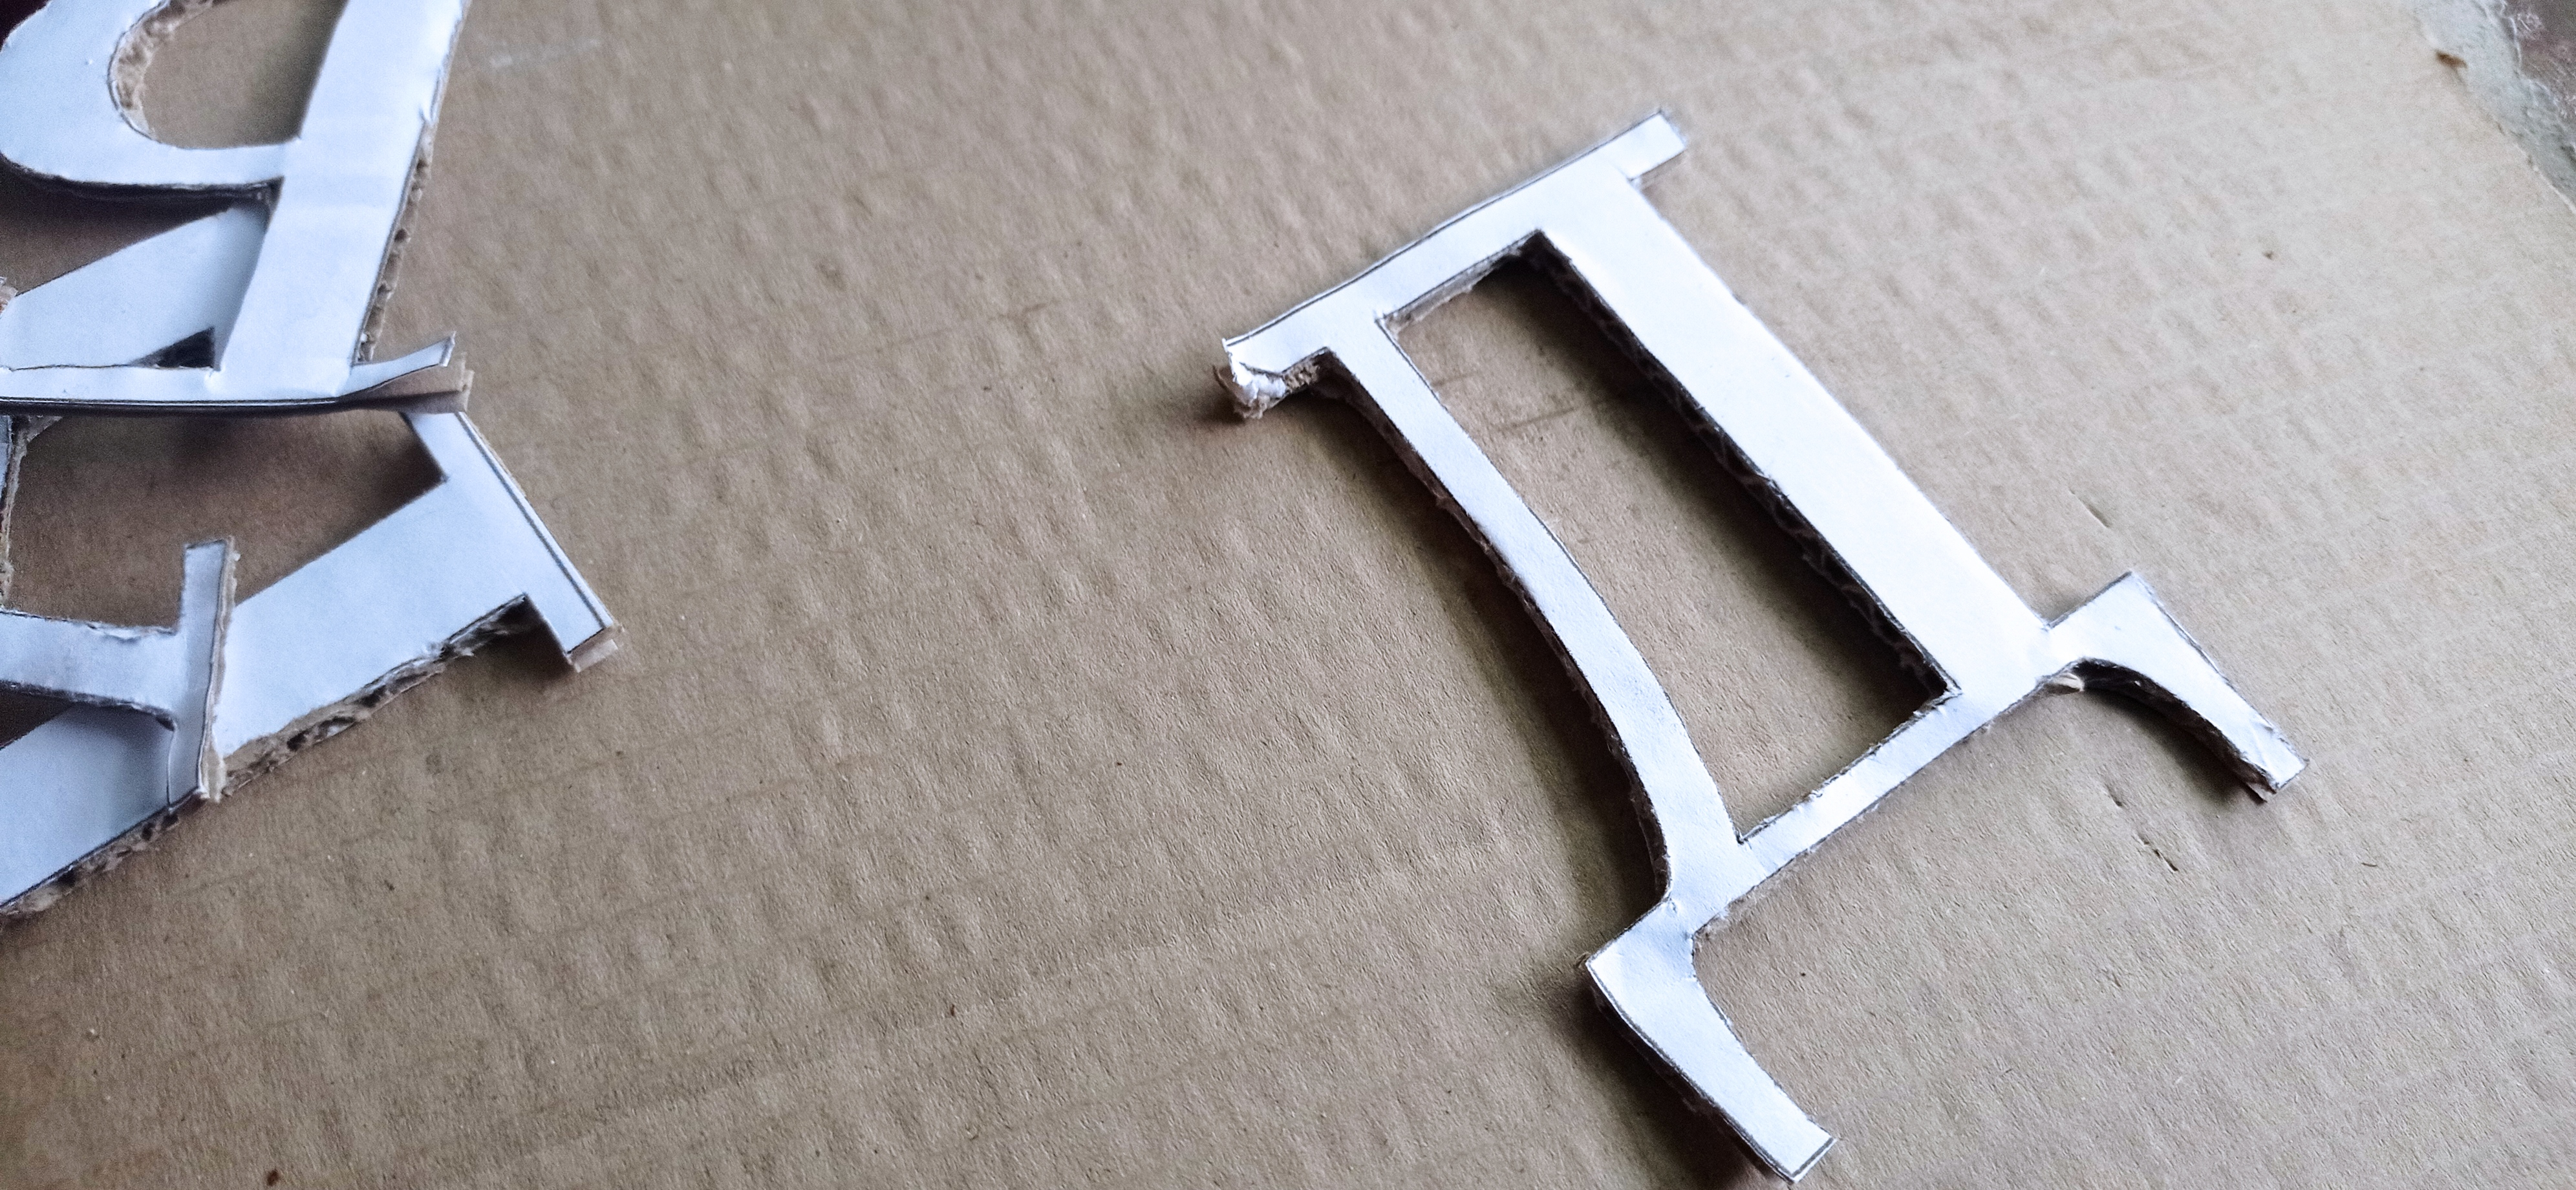d: (1214, 107, 2310, 1188)
